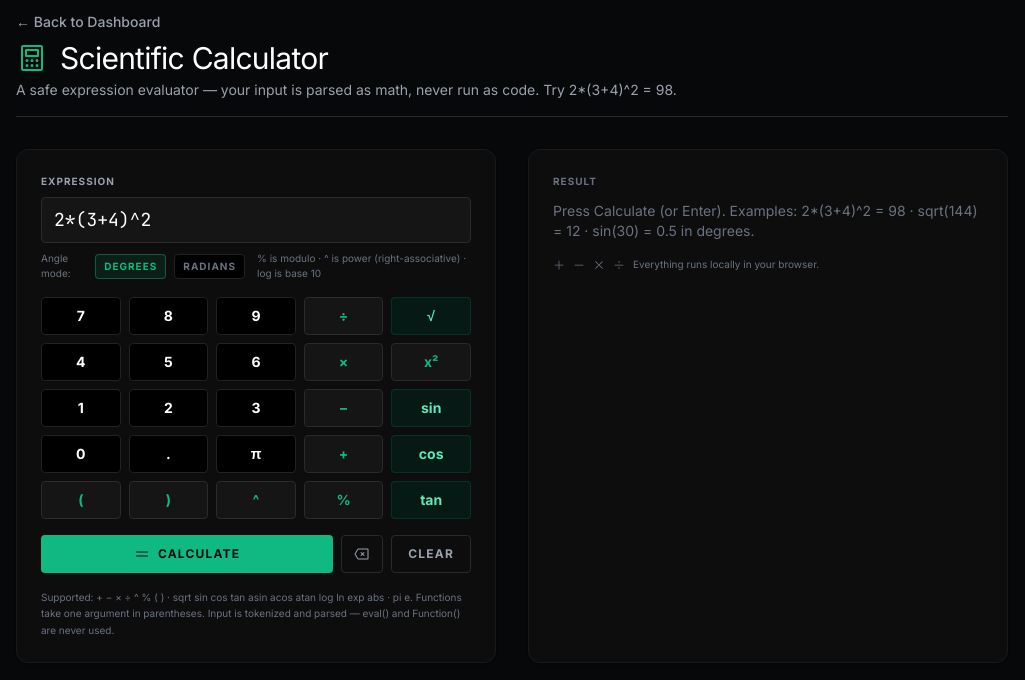
Scenario: scientific-calc › renders and evaluates the default expression through the UI
The image size is (1025, 680).
Click the button "Calculate".
click(187, 554)  # box [41, 535, 333, 573]
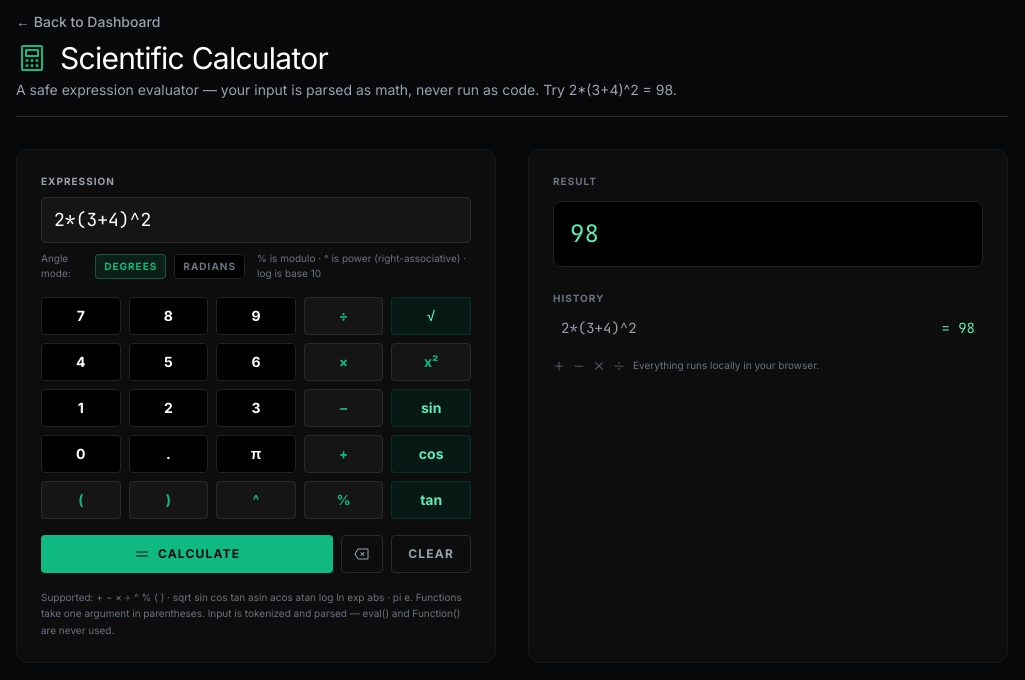
Expected: the text with test id "calc-result" reads "98", [570, 218, 599, 249]
